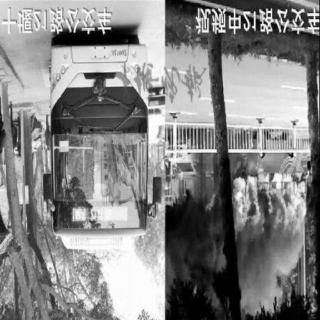Fire: (231, 171, 307, 235)
